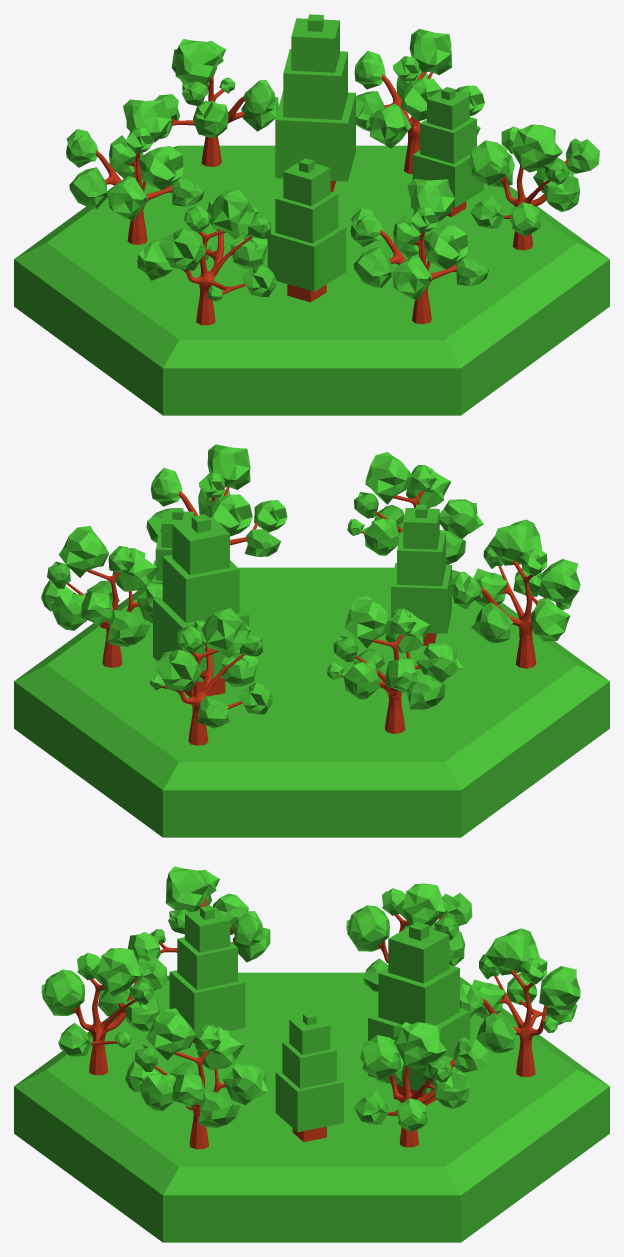
File: empty_center_forest_prefab.fbx
The picture shows the model from 3 angles, top to bottom: view 1: azimuth 30°, elevation 25°; view 2: azimuth 150°, elevation 25°; view 3: azimuth 270°, elevation 25°; orthographic projection.
Visible parts, largest first — view 1: tile, Cube.002, Cube.012, tree_leaf2.004, tree_leaf1.007, tree_leaf1.005, tree_leaf1.002, tree_leaf2.003, Cube.003, tree_leaf1.003, tree_leaf2.005, tree_leaf2.002 (+22 smaller); view 2: tile, tree_leaf1.005, tree_leaf2.001, Cube.003, tree_leaf1.004, tree_leaf2.004, tree_leaf1.007, tree_leaf2.007, tree_leaf2.003, tree_leaf1.002, tree_leaf2.005, Cube.004 (+18 smaller); view 3: tile, tree_leaf1.003, Cube.003, tree_leaf2.007, Cube.012, tree_leaf2.001, Cube.022, tree_leaf2.003, tree_leaf1.004, tree_leaf1.007, tree_leaf2.002, Cube.004 (+20 smaller).
Boxes of the visible parts, bbox=[...] form: tile: bbox=[14, 145, 609, 415]; Cube.002: bbox=[275, 90, 355, 181]; Cube.012: bbox=[267, 225, 346, 291]; tree_leaf2.004: bbox=[159, 205, 276, 297]; tree_leaf1.007: bbox=[354, 29, 452, 148]; tree_leaf1.005: bbox=[66, 99, 170, 221]; tree_leaf1.002: bbox=[350, 179, 454, 300]; tree_leaf2.003: bbox=[468, 126, 579, 236]; Cube.003: bbox=[283, 49, 347, 119]; tree_leaf1.003: bbox=[488, 124, 599, 187]; tree_leaf2.005: bbox=[109, 127, 183, 190]; tree_leaf2.002: bbox=[393, 207, 467, 269]; tile: bbox=[14, 567, 609, 837]; tree_leaf1.005: bbox=[345, 595, 463, 692]; tree_leaf2.001: bbox=[154, 626, 273, 714]; Cube.003: bbox=[162, 555, 239, 622]; tree_leaf1.004: bbox=[447, 519, 570, 641]; tree_leaf2.004: bbox=[473, 549, 580, 606]; tree_leaf1.007: bbox=[59, 526, 162, 626]; tree_leaf2.007: bbox=[41, 546, 159, 630]; tree_leaf2.003: bbox=[198, 473, 287, 536]; tree_leaf1.002: bbox=[365, 452, 483, 538]; tree_leaf2.005: bbox=[327, 608, 430, 699]; Cube.004: bbox=[172, 517, 229, 574]; tile: bbox=[14, 972, 609, 1242]; tree_leaf1.003: bbox=[146, 1008, 268, 1108]; Cube.003: bbox=[378, 965, 459, 1025]; tree_leaf2.007: bbox=[360, 1022, 469, 1132]; Cube.012: bbox=[169, 970, 245, 1033]; tree_leaf2.001: bbox=[471, 957, 580, 1019]; Cube.022: bbox=[275, 1071, 343, 1132]; tree_leaf2.003: bbox=[125, 1024, 243, 1110]; tree_leaf1.004: bbox=[165, 866, 263, 945]; tree_leaf1.007: bbox=[376, 1022, 487, 1084]; tree_leaf2.002: bbox=[43, 952, 160, 1047]; Cube.004: bbox=[388, 927, 449, 983].
Bounding box in the file's own units: 16.93 × 8.53 × 19.55.
